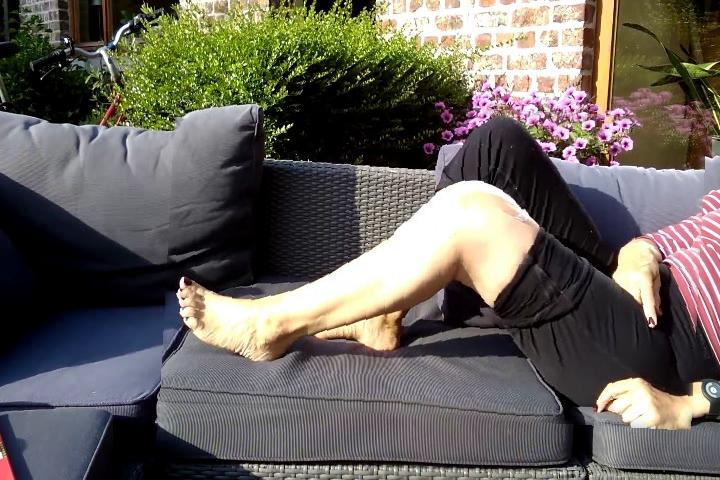lower_body: (165, 100, 705, 425)
